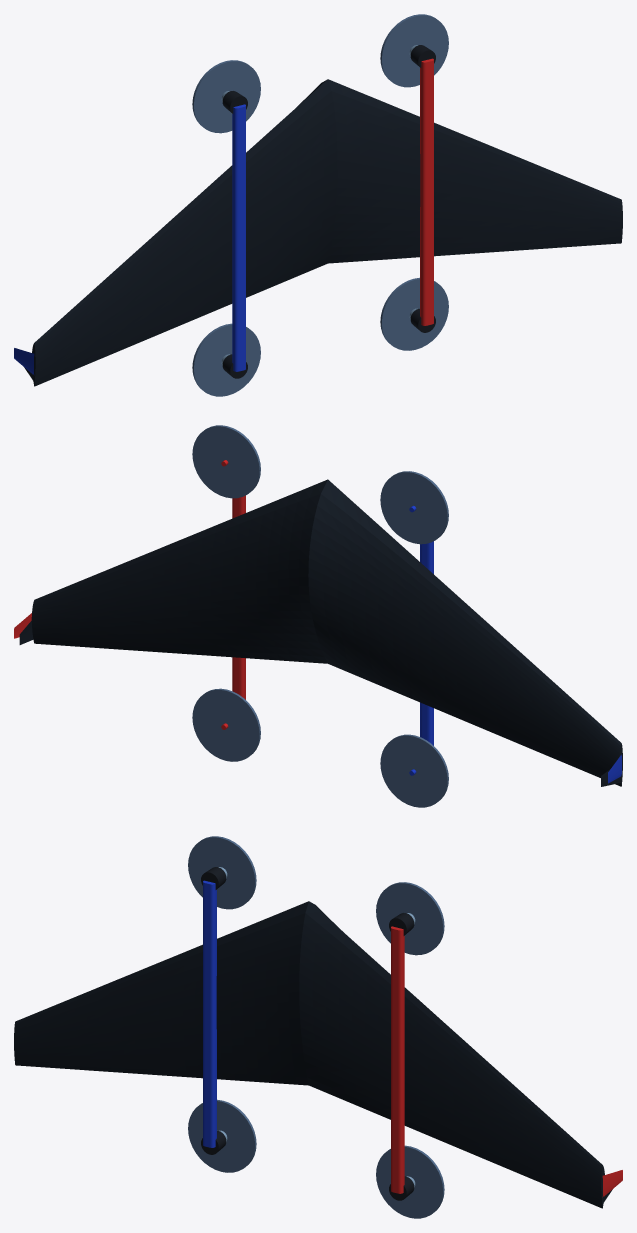
The model's file is vtol_wing.obj.
The picture shows the model from 3 angles, top to bottom: view 1: azimuth 30°, elevation 25°; view 2: azimuth 150°, elevation 25°; view 3: azimuth 330°, elevation 25°; orthographic projection.
Visible parts, largest first — view 1: wing_body_0, prop_grey_5, blue_metal_2, red_metal_1, motor_dark_3; view 2: wing_body_0, prop_grey_5, blue_metal_2, red_metal_1; view 3: wing_body_0, prop_grey_5, red_metal_1, blue_metal_2, motor_dark_3.
Part boxes in pixels (x1,y1,x2,y2): wing_body_0: [24, 79, 622, 386]; prop_grey_5: [192, 14, 448, 396]; blue_metal_2: [14, 104, 245, 375]; red_metal_1: [420, 58, 433, 325]; motor_dark_3: [222, 45, 435, 378]; wing_body_0: [19, 479, 622, 786]; prop_grey_5: [192, 425, 448, 807]; blue_metal_2: [409, 505, 621, 783]; red_metal_1: [14, 460, 245, 729]; wing_body_0: [14, 901, 612, 1208]; prop_grey_5: [188, 836, 444, 1218]; red_metal_1: [391, 926, 622, 1197]; blue_metal_2: [203, 880, 216, 1147]; motor_dark_3: [201, 867, 414, 1200].
Size of the model in its own units: 1.42 by 0.76 by 0.121.
